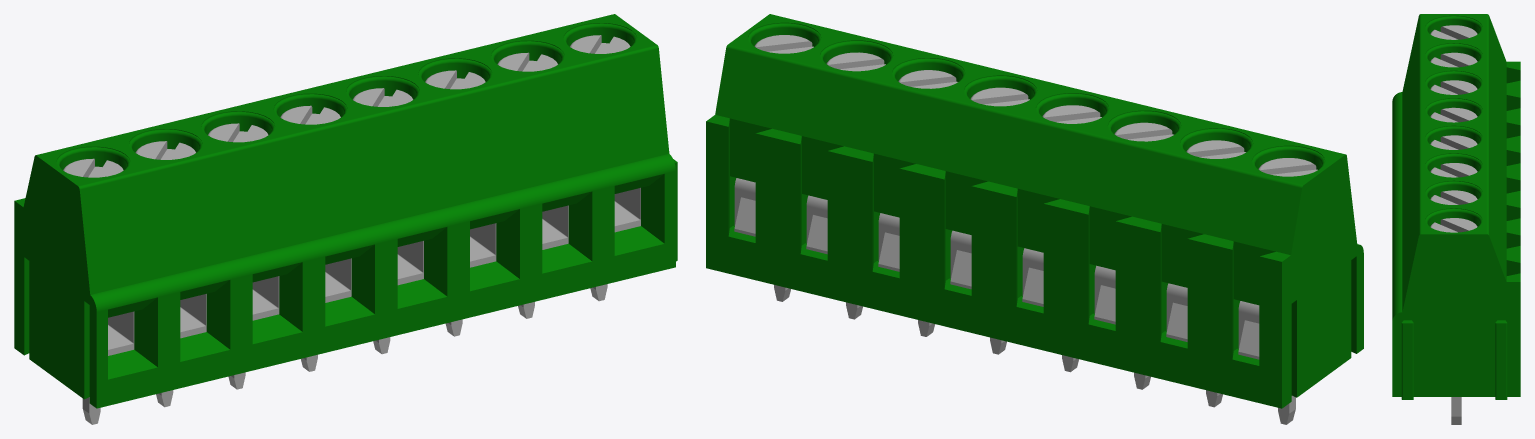
3 renders of one model, left to right at view 1: azimuth 30°, elevation 25°; view 2: azimuth 150°, elevation 25°; view 3: azimuth 270°, elevation 25°, orthographic. The views are drawn at different scales.
Parts seen in each view (by area): view 1: DG500-5.08-08P_body, DG500_pin_contact (×8), DG500_screw (×8); view 2: DG500-5.08-08P_body, DG500_pin_pad (×8), DG500_screw (×8); view 3: DG500-5.08-08P_body, DG500_screw (×8), DG500_pin_pad.
Boxes of the visible parts, x1,y1,x2,y2 form: DG500-5.08-08P_body: [14, 14, 677, 408]; DG500_pin_contact (×8): [108, 188, 640, 355]; DG500_screw (×8): [63, 35, 630, 177]; DG500-5.08-08P_body: [706, 14, 1363, 408]; DG500_pin_pad (×8): [734, 178, 1295, 424]; DG500_screw (×8): [754, 35, 1317, 176]; DG500-5.08-08P_body: [1392, 14, 1520, 399]; DG500_screw (×8): [1430, 25, 1477, 232]; DG500_pin_pad: [1451, 397, 1461, 424].
Size of the model in its own units: 0.0412 by 0.0175 by 0.01.
